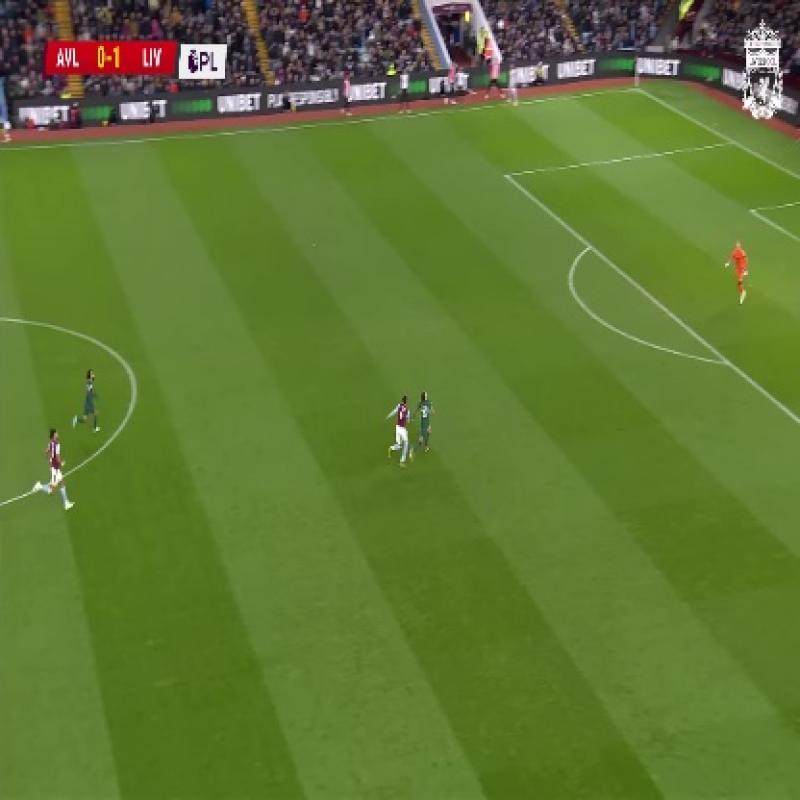1: (626, 84, 640, 92)
10: (582, 236, 594, 252)
11: (719, 352, 733, 371)
2: (726, 136, 736, 148)
7: (748, 204, 758, 216)
9: (500, 167, 512, 183)
c: (114, 366, 152, 401)
